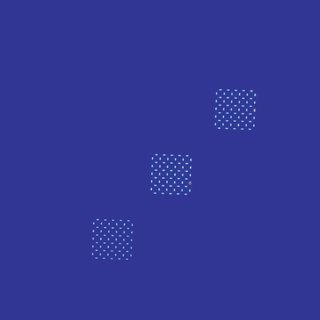overheated: (188, 181, 191, 184), (253, 108, 256, 111), (251, 89, 253, 92)
